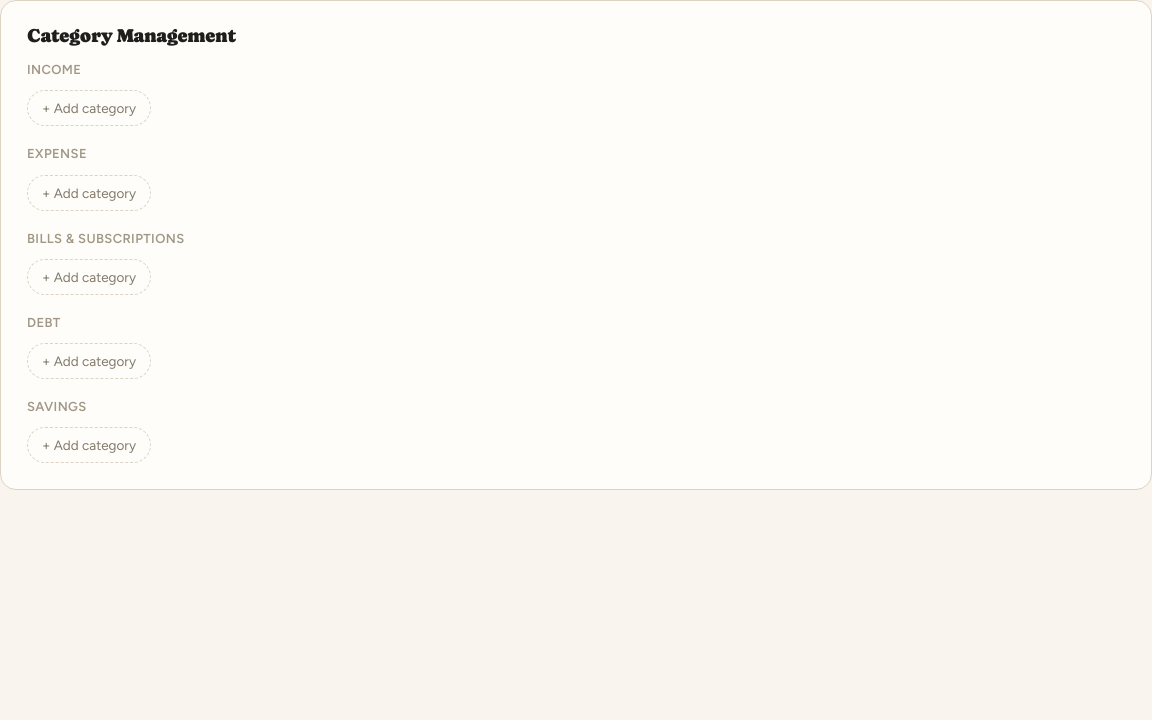
CategoryManagement › shows the store's own rejection and keeps the form open to fix it
Click the button "+ Add category" below "Expense" at (89, 192), box [27,174,151,210]
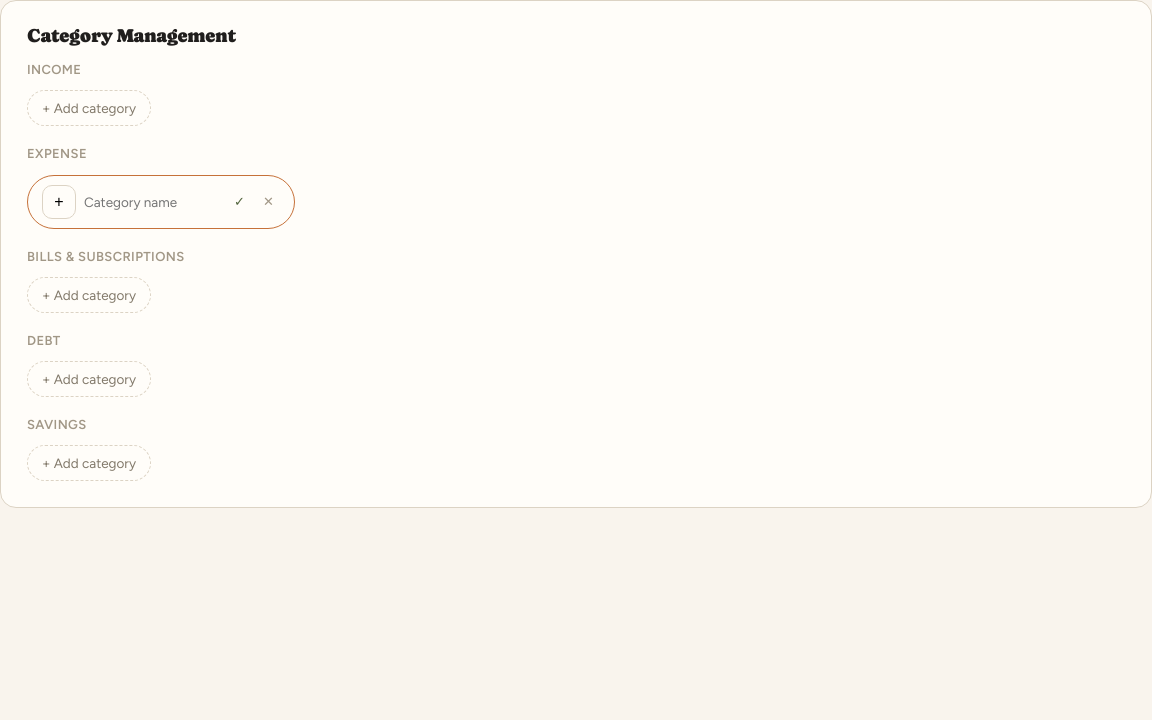
Type "Groceries" into the field labelled "Category name" at (152, 202), box [82,192,222,210]
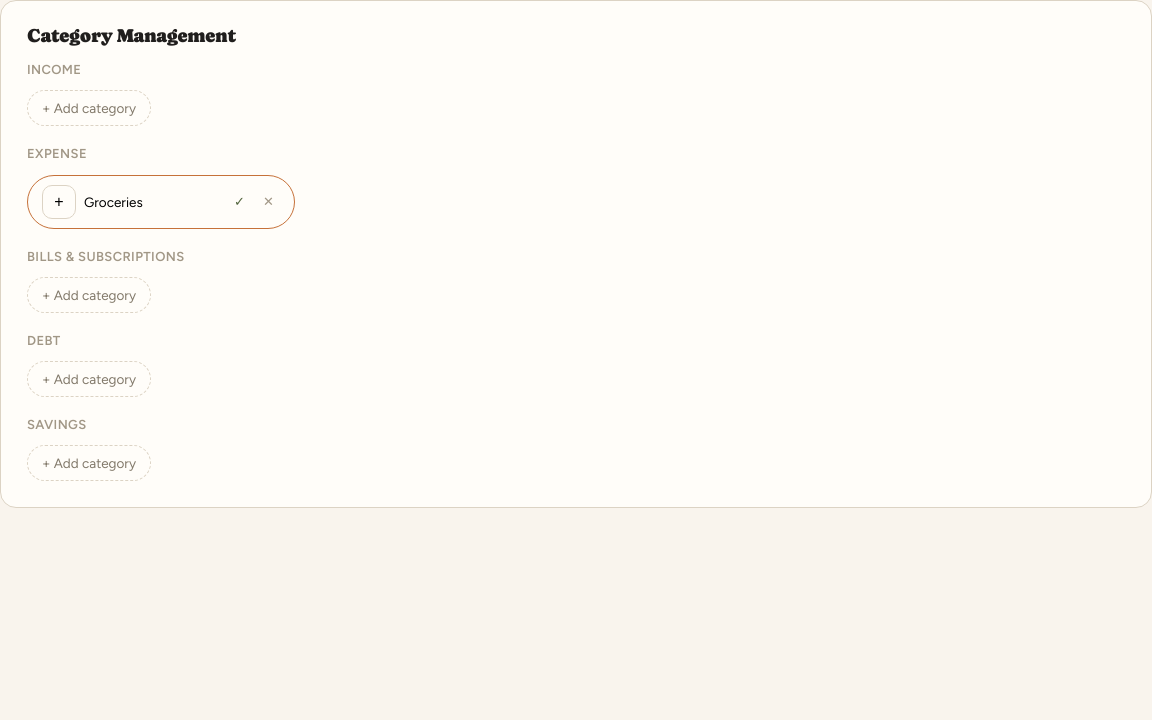
Click the button named "Save" at (239, 202), box [228,193,251,210]
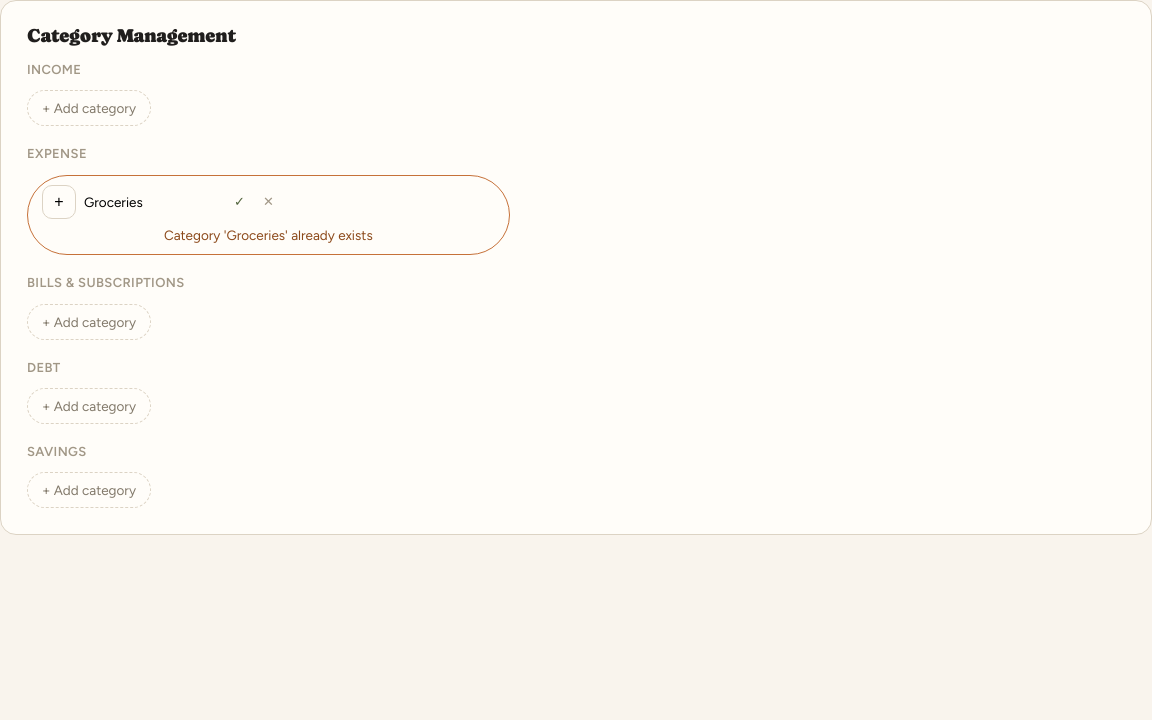
Result: the message shows "already exists" at [164,226,373,242]
